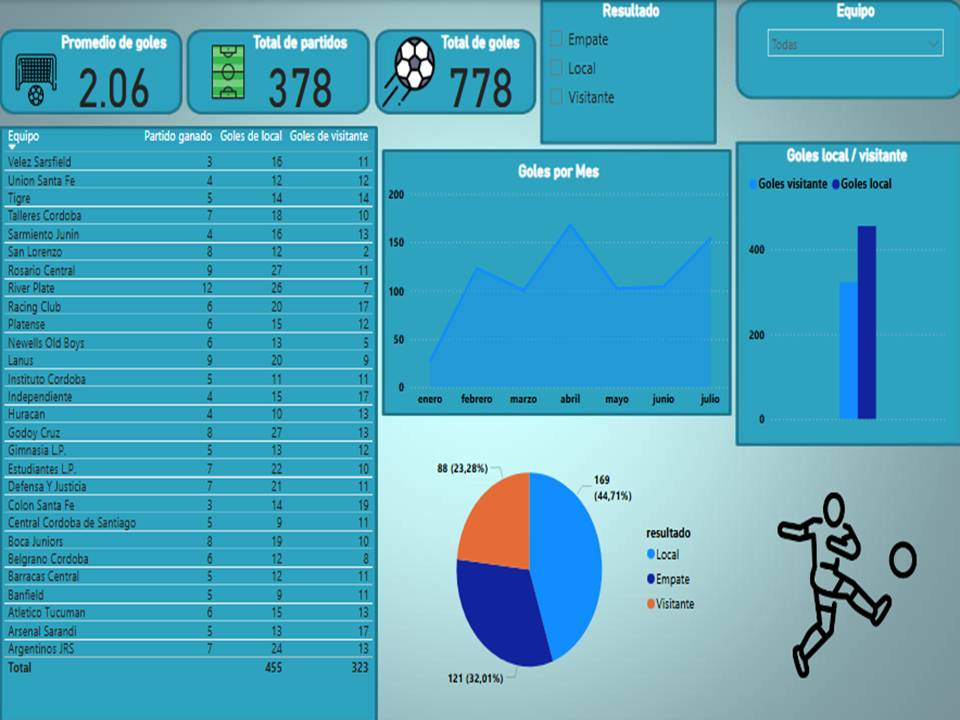

The dashboard page shown, as its layout file describes it:
{"tool":"powerbi","page":{"name":"Página 1","canvas":[1280,720],"ordinal":0},"visuals":[{"type":"card","title":"Total de partidos","fields":{"Values":["Tabla.total de partidos"]},"box":[241,0,241,101.4],"z":0},{"type":"areaChart","title":"Goles por Mes","fields":{"Category":["partidos_limio.fecha.Variación.Jerarquía de fechas.Mes"],"Y":["Tabla.Total de goles"]},"box":[517.2,138.1,458.4,252.7],"z":1000},{"type":"card","title":"Promedio de goles","fields":{"Values":["Tabla.Promedio de goles"]},"box":[0,0,241,101.4],"z":2000},{"type":"card","title":"Total de goles","fields":{"Values":["Tabla.Total de goles"]},"box":[467.3,0,241,108.7],"z":3000},{"type":"pieChart","title":"% de Resultado","fields":{"Category":["partidos_limio.resultado"],"Y":["CountNonNull(partidos_limio.resultado)"]},"box":[503.1,410.6,377.3,264.6],"z":4000},{"type":"slicer","title":"Equipo","fields":{"Values":["Equipos.Equipo"]},"box":[1012.4,0,254.2,101.4],"z":5000},{"type":"tableEx","fields":{"Values":["Equipos.Equipo","Equipos.Partido ganado","Sum(partidos_limio.goles_local)","Sum(partidos_limio.goles_visitante)"]},"box":[0,121.4,517.6,592.8],"z":6000},{"type":"clusteredColumnChart","title":"Goles local / visitante","fields":{"Y":["Sum(partidos_limio.goles_visitante)","Sum(partidos_limio.goles_local)"]},"box":[999,138.8,280.5,289.2],"z":8000},{"type":"slicer","title":"Resultado","fields":{"Values":["partidos_limio.resultado"]},"box":[724.3,0,251.6,121.4],"z":8001}]}

Visuals, with their boxes on the page's 1280x720 design canvas (x1, y1, x2, y2). These are canvas units, not pixel positions in the 960x720 screenshot, which may show the page scaled, cropped or inside an application window:
"Total de partidos" card: detection(241, 0, 482, 101)
"Goles por Mes" areaChart: detection(517, 138, 976, 391)
"Promedio de goles" card: detection(0, 0, 241, 101)
"Total de goles" card: detection(467, 0, 708, 109)
"% de Resultado" pieChart: detection(503, 411, 880, 675)
"Equipo" slicer: detection(1012, 0, 1267, 101)
tableEx - Equipos.Equipo x Equipos.Partido ganado: detection(0, 121, 518, 714)
"Goles local / visitante" clusteredColumnChart: detection(999, 139, 1280, 428)
"Resultado" slicer: detection(724, 0, 976, 121)
